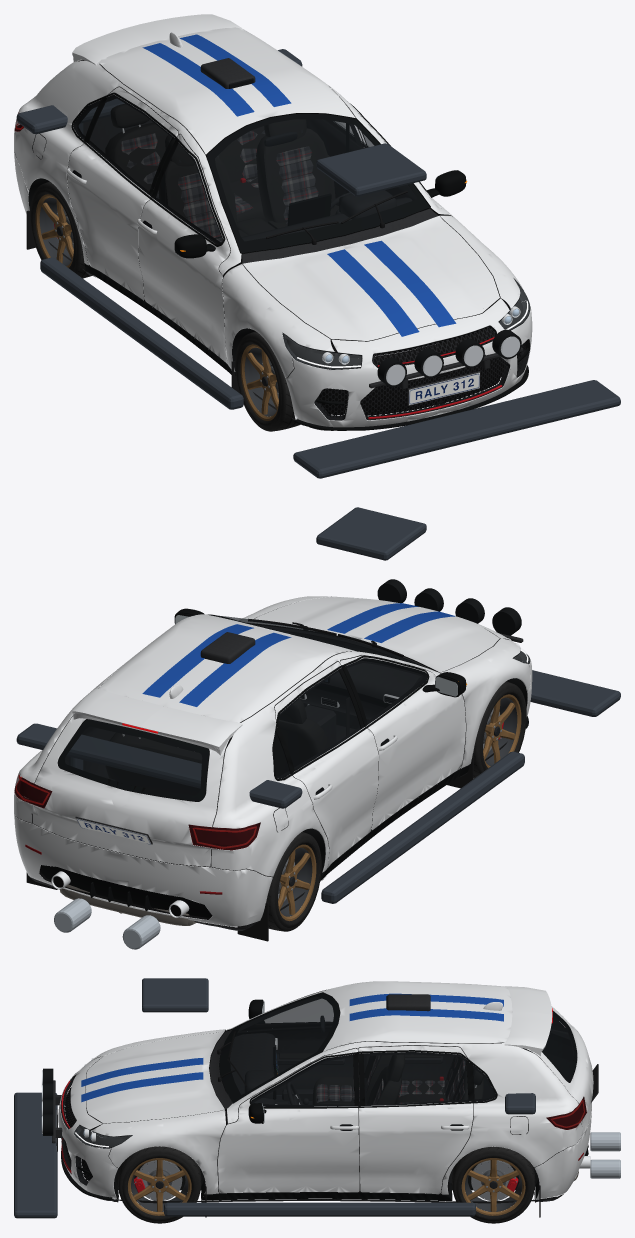
File: car_bozkir200.glb
3 views of the same model, one above another, from view 1: azimuth 30°, elevation 25°; view 2: azimuth 150°, elevation 25°; view 3: azimuth 270°, elevation 25° (orthographic). The views are drawn at different scales.
Visible parts, largest first — view 1: Body, Mod_Splitter, Mod_Skirt_-1, Wheel_FR, Mod_Hood, Wheel_RR, Mod_Wing; view 2: Body, Mod_Wing, Mod_Skirt_-1, Wheel_RR, Mod_Hood, Wheel_FR, Mod_Splitter, Mod_Exhaust_-1, Mod_Exhaust_1; view 3: Body, Mod_Splitter, Wheel_RL, Mod_Skirt_1, Wheel_FL, Mod_Hood, Mod_Wing, Mod_Exhaust_1, Mod_Exhaust_-1.
Boxes of the visible parts, bbox=[...] form: Body: bbox=[14, 14, 532, 430]; Mod_Splitter: bbox=[293, 380, 620, 478]; Mod_Skirt_-1: bbox=[40, 257, 243, 409]; Wheel_FR: bbox=[235, 331, 300, 431]; Mod_Hood: bbox=[316, 143, 426, 196]; Wheel_RR: bbox=[30, 181, 91, 278]; Mod_Wing: bbox=[16, 49, 302, 134]; Body: bbox=[14, 579, 532, 941]; Mod_Wing: bbox=[16, 723, 302, 808]; Mod_Skirt_-1: bbox=[321, 751, 524, 903]; Wheel_RR: bbox=[266, 831, 321, 931]; Mod_Hood: bbox=[316, 507, 426, 560]; Wheel_FR: bbox=[473, 681, 526, 778]; Mod_Splitter: bbox=[530, 670, 620, 716]; Mod_Exhaust_-1: bbox=[122, 915, 160, 949]; Mod_Exhaust_1: bbox=[54, 898, 91, 932]; Body: bbox=[41, 981, 598, 1217]; Mod_Splitter: bbox=[14, 1092, 57, 1218]; Wheel_RL: bbox=[452, 1146, 535, 1223]; Mod_Skirt_1: bbox=[164, 1202, 475, 1216]; Wheel_FL: bbox=[118, 1146, 201, 1223]; Mod_Hood: bbox=[142, 978, 208, 1012]; Mod_Wing: bbox=[505, 1093, 535, 1114]; Mod_Exhaust_1: bbox=[590, 1159, 620, 1178]; Mod_Exhaust_-1: bbox=[590, 1132, 620, 1151].
Bounding box in the file's own units: 2.23 × 1.59 × 4.73.
Materials: 64 (11 with a texture image).
